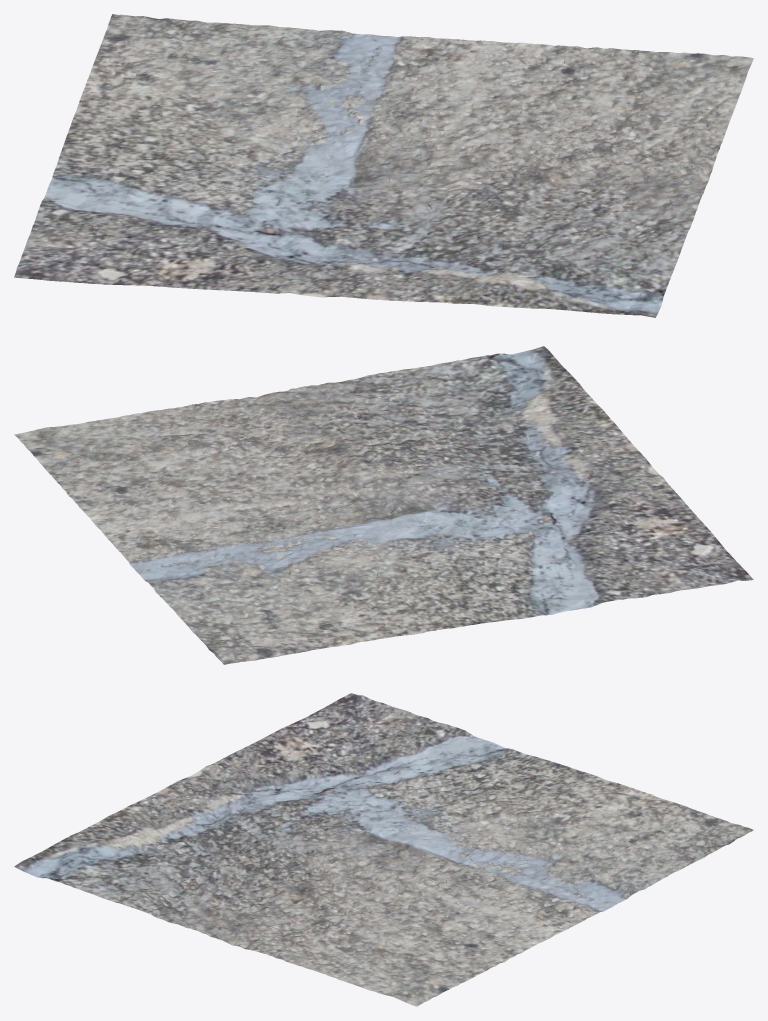
The model's file is tile_1_3.obj.
The picture shows the model from 3 angles, top to bottom: view 1: azimuth 30°, elevation 25°; view 2: azimuth 150°, elevation 25°; view 3: azimuth 270°, elevation 25°; orthographic projection. The views are drawn at different scales.
Parts seen in each view (by area): view 1: texture_0; view 2: texture_0; view 3: texture_0.
Part boxes in pixels (left/top/right/bottom): texture_0: left=14, top=14, right=753, bottom=317; texture_0: left=14, top=346, right=753, bottom=664; texture_0: left=14, top=693, right=753, bottom=1006.
Bounding box in the file's own units: 0.5079 × 0.00643 × 0.5063.
Materials: 1 (1 with a texture image).
